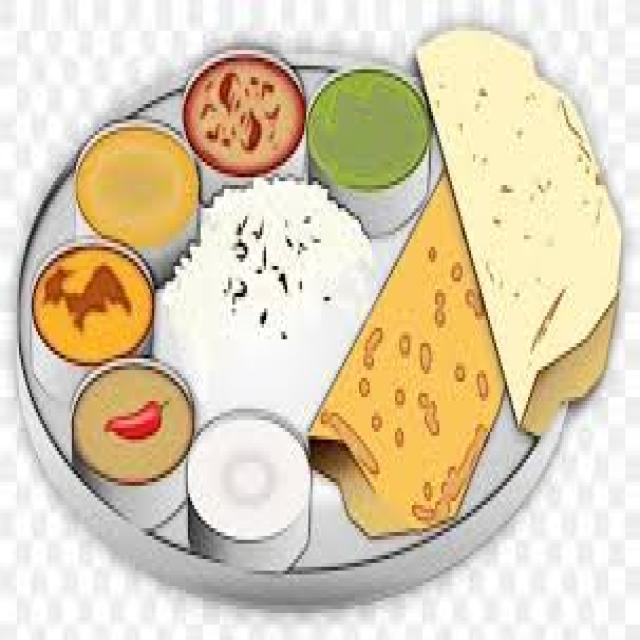dal: (65, 106, 205, 263)
papad: (420, 47, 623, 373), (320, 199, 504, 517)
roti: (180, 163, 369, 420)
sambar-rasam: (60, 105, 206, 272), (61, 347, 192, 487), (302, 58, 435, 194)
sweet: (63, 355, 195, 483), (33, 238, 158, 370)
veg-fry: (175, 51, 313, 181)
